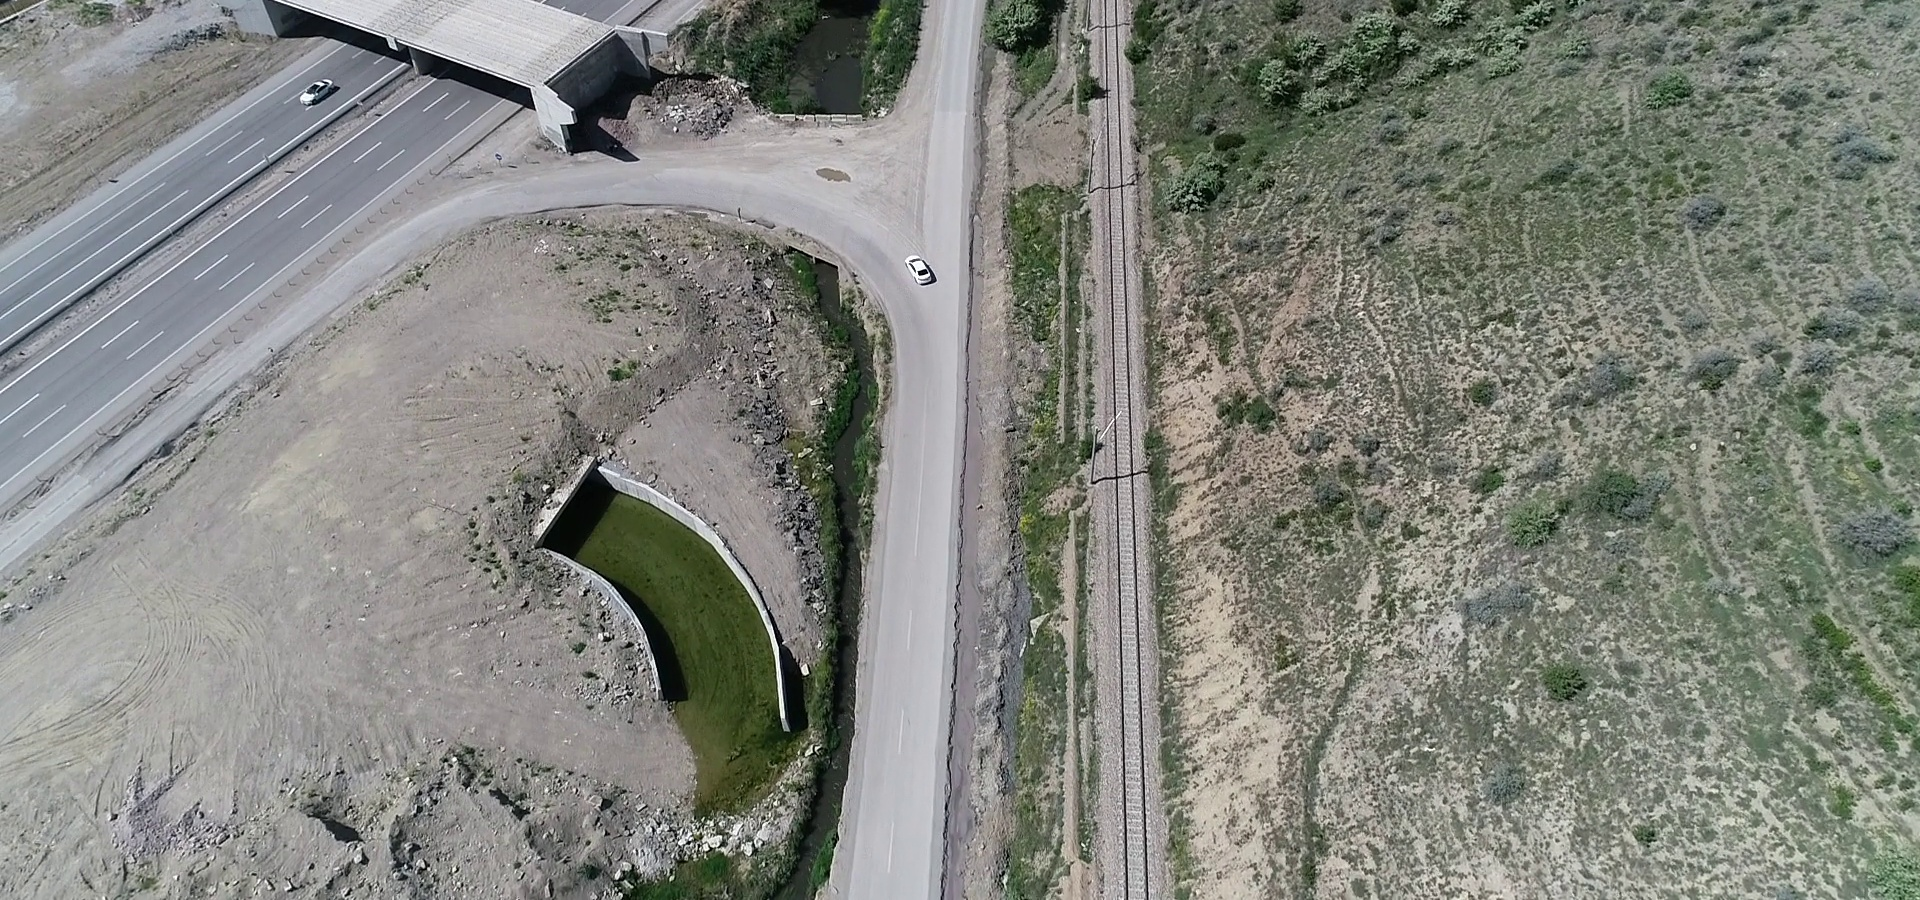araba: (900, 242, 939, 290), (296, 72, 342, 107)
